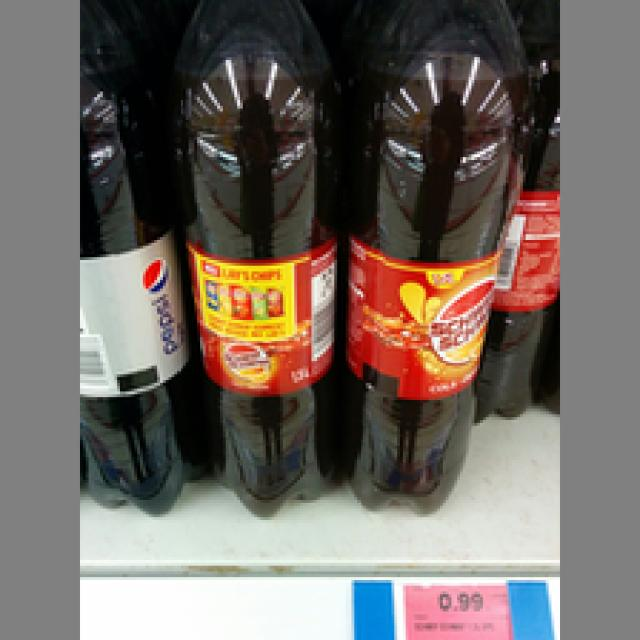groceries: (337, 0, 528, 514), (160, 0, 343, 514), (77, 0, 202, 514)
